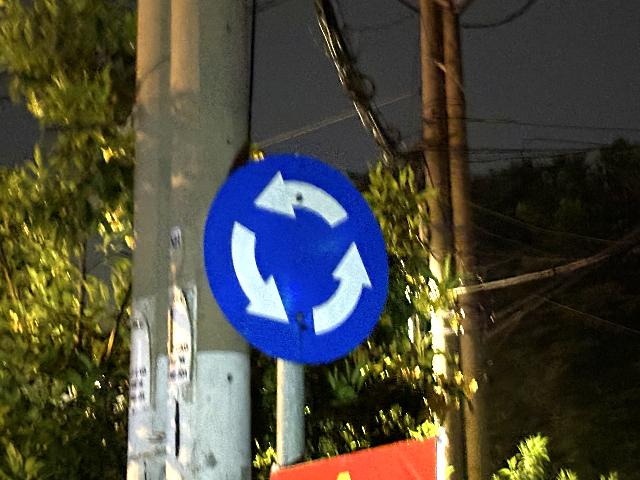noi-giao-nhau-chay-theo-vong-xuyen: (203, 152, 390, 365)
